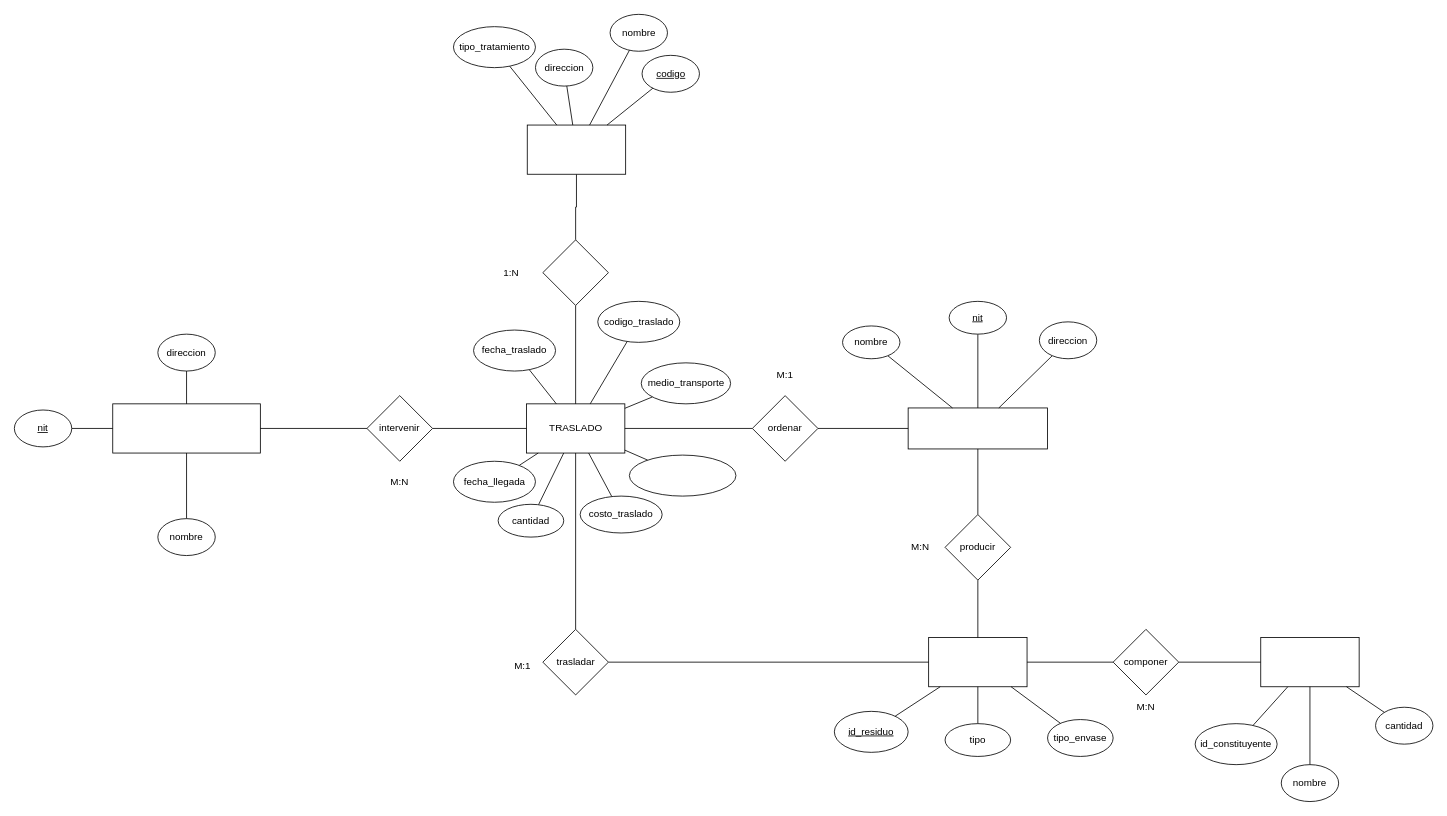
This 1447x816 diagram has some shape labels left out. Each missing label, with the centre of its shape:
CONSTITUYENTE: the point at 1309,662
destinar: the point at 575,272
EMPRESA_PRODUCTORA: the point at 977,428
EMPRESA_TRANSPORTISTA: the point at 186,428
kilometros_recorridos: the point at 682,475
LUGAR_SEGURO: the point at 576,149
RESIDUO: the point at 977,662
